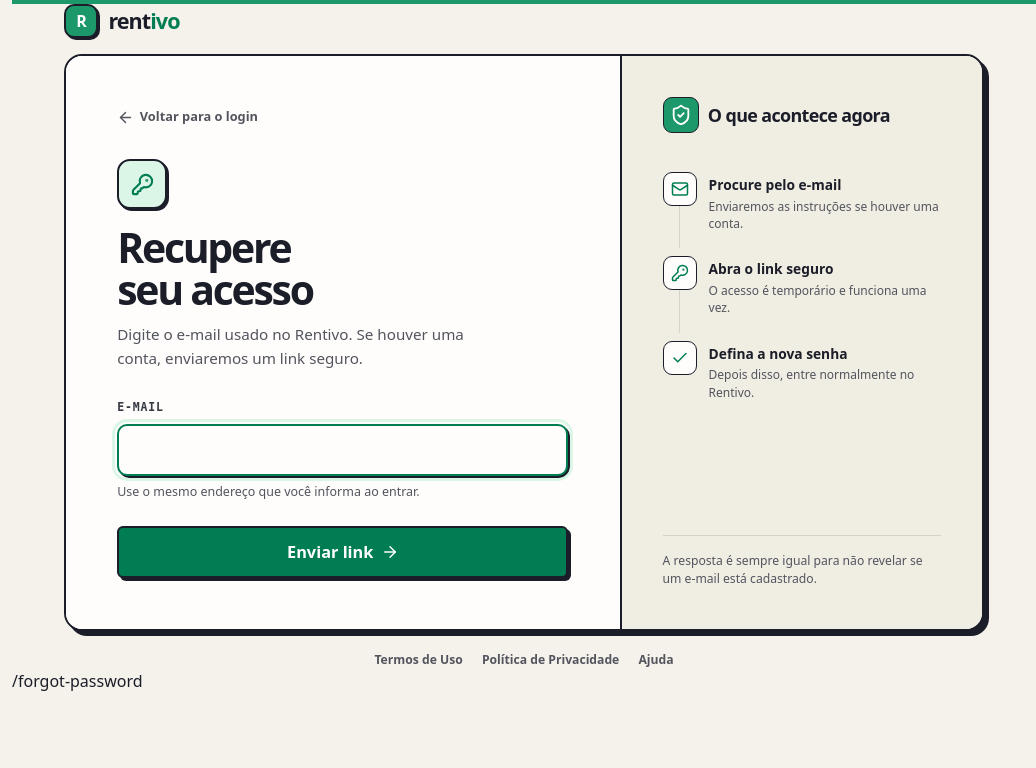
Test case: ForgotPasswordPage › uses the generic message when the request fails before an API response
This screenshot has width=1036, height=768.
In the field labelled "E-mail": (343, 450) top-left (117, 424), bottom-right (568, 476), type "user@example.com"
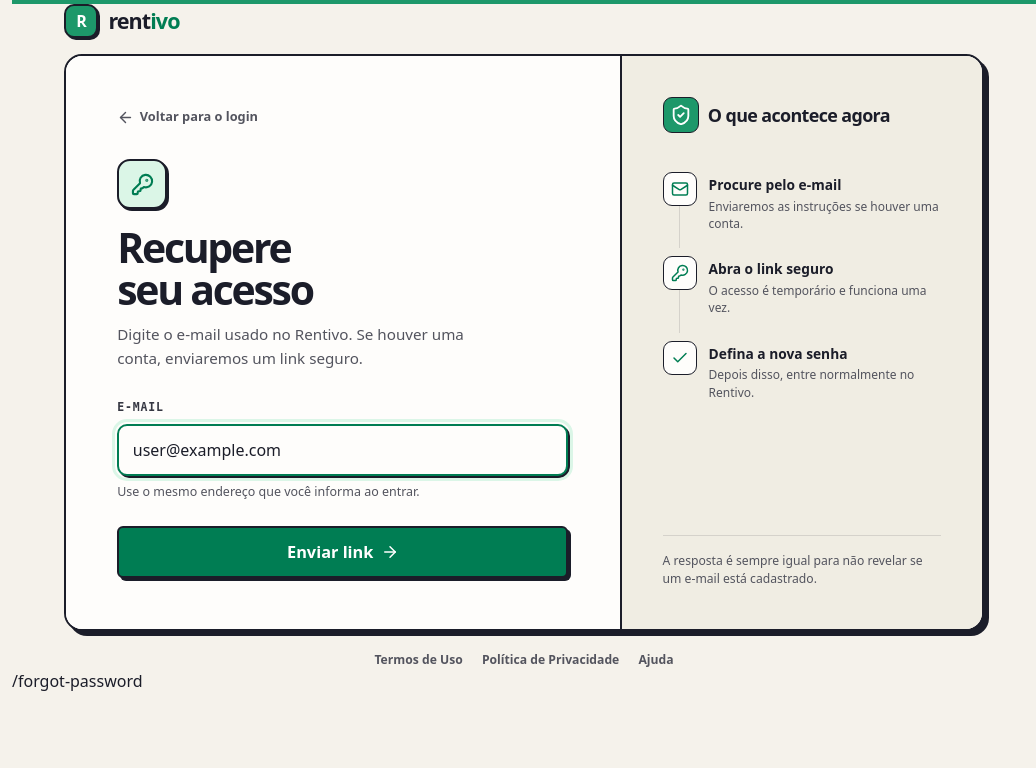
Click the button "Enviar link": (343, 552) top-left (117, 526), bottom-right (568, 578)
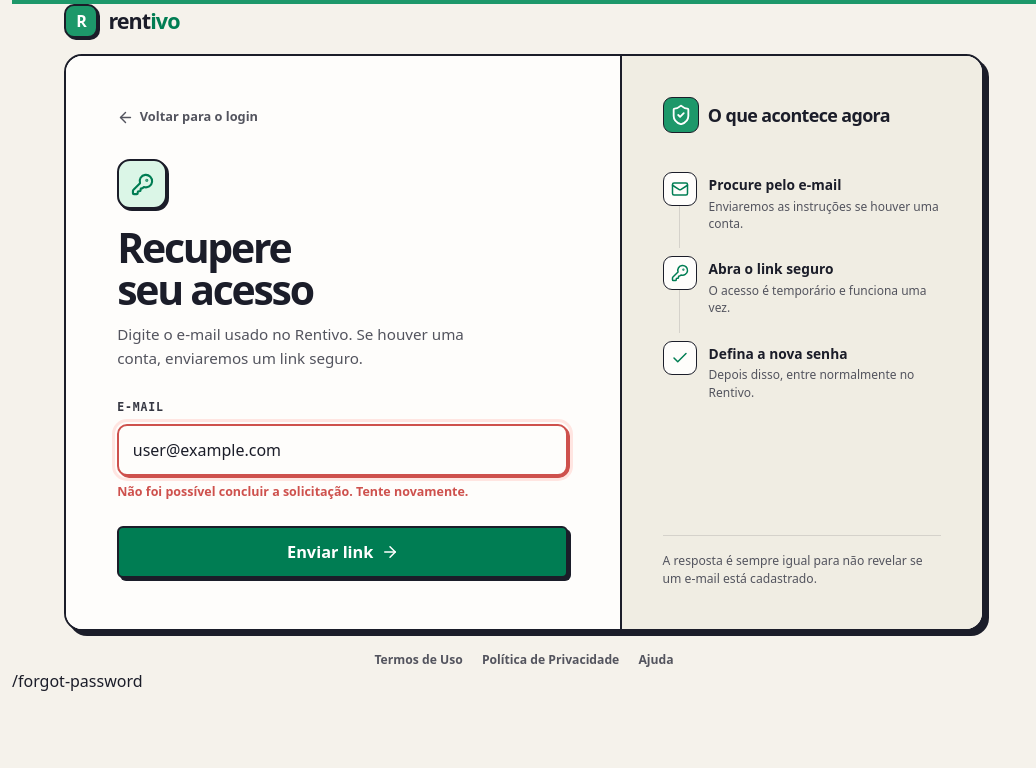
Now the message reads "Não foi possível concluir a solicitação. Tente novamente.", box top-left (117, 483), bottom-right (468, 500)
